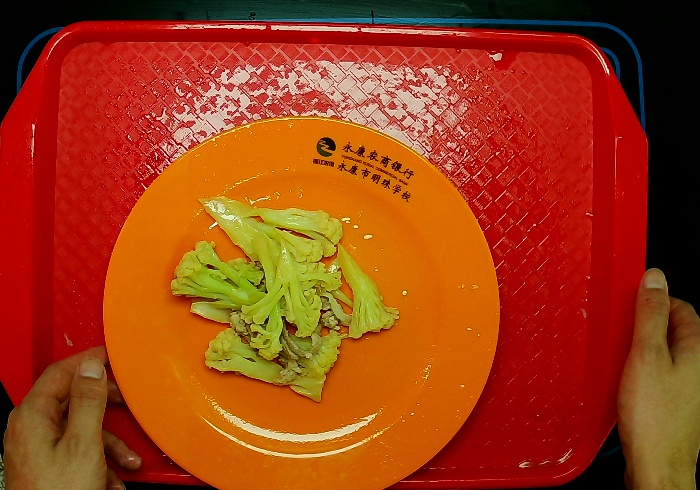YKMZ-Ju_Se_Mian_Pan: (102, 116, 499, 490)
